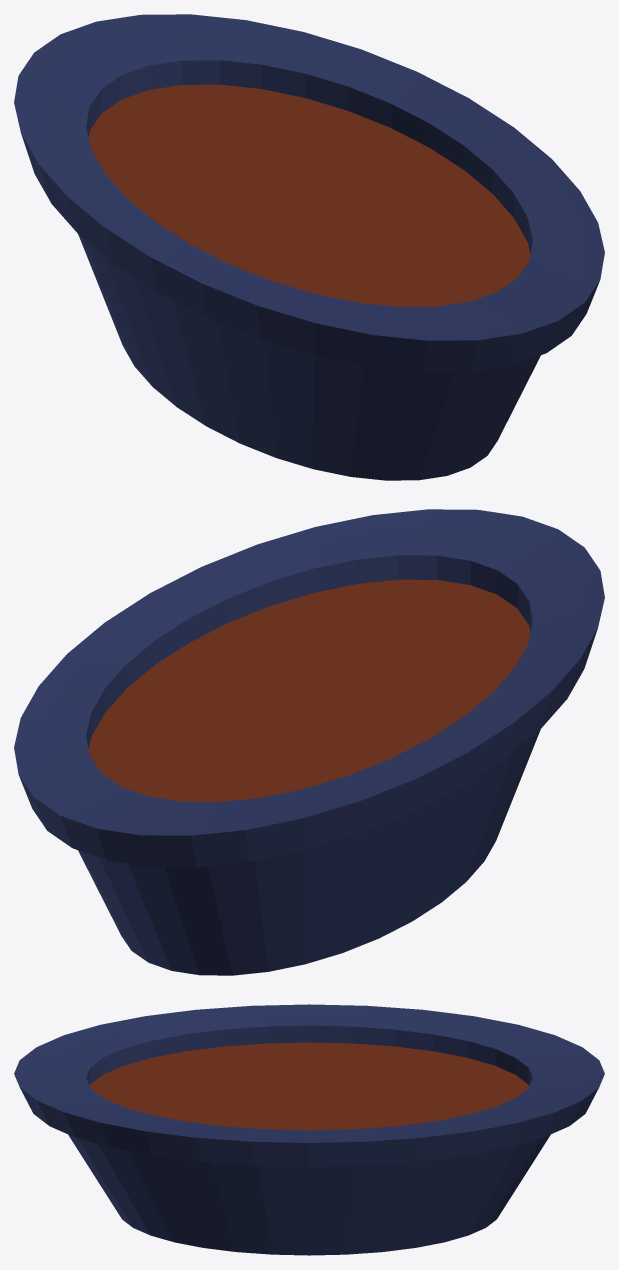
File: Pot_2a_pot.fbx
The picture shows the model from 3 angles, top to bottom: view 1: azimuth 30°, elevation 25°; view 2: azimuth 150°, elevation 25°; view 3: azimuth 270°, elevation 25°; orthographic projection. The views are drawn at different scales.
Parts seen in each view (by area): view 1: Cylinder; view 2: Cylinder; view 3: Cylinder.
Part boxes in pixels (left/top/right/bottom): Cylinder: left=14, top=14, right=604, bottom=480; Cylinder: left=14, top=509, right=604, bottom=975; Cylinder: left=14, top=1004, right=604, bottom=1255.
Bounding box in the file's own units: 104 × 47.79 × 187.
